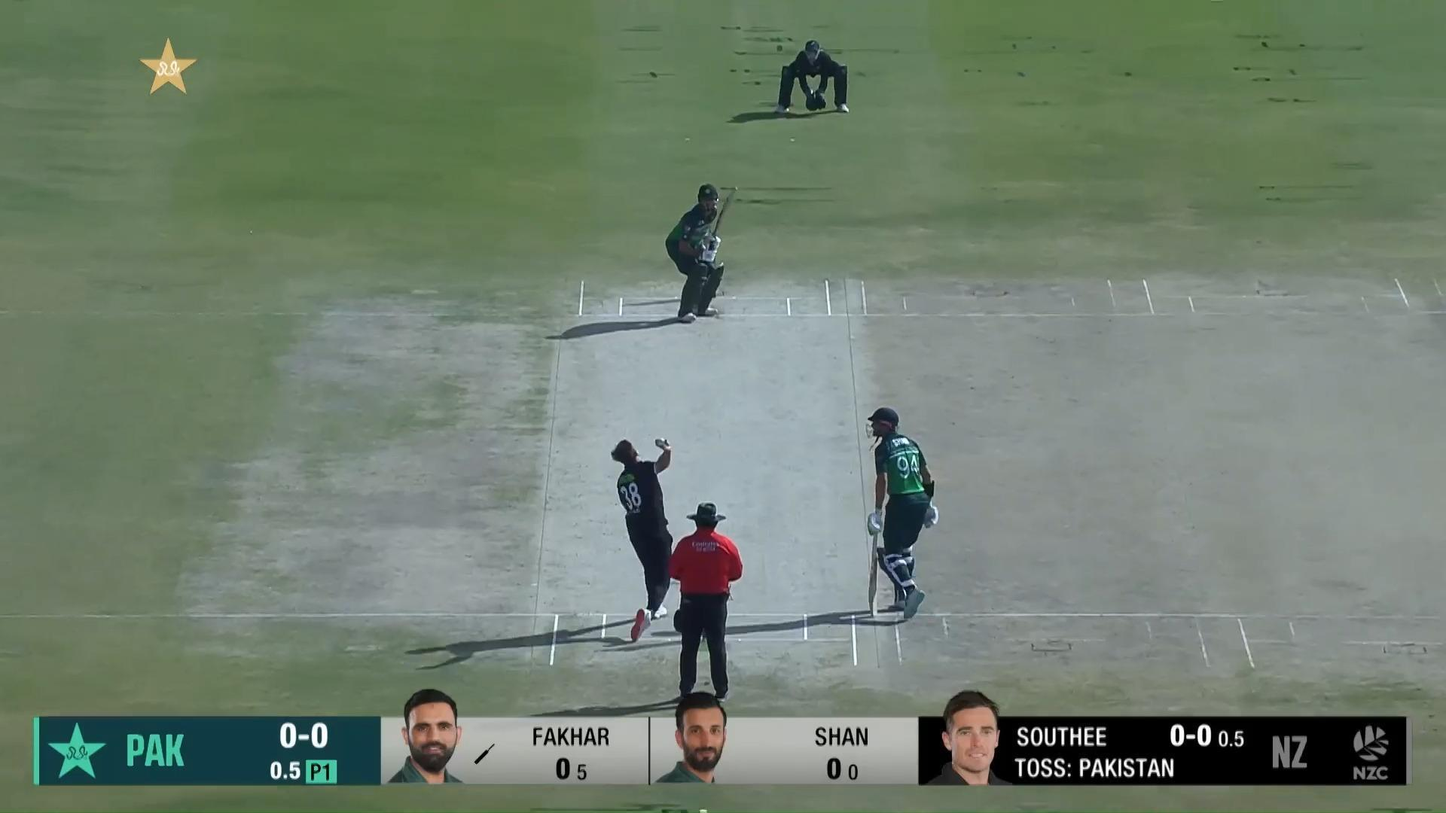BM 1: (665, 183, 740, 324)
BO: (609, 436, 677, 643)
